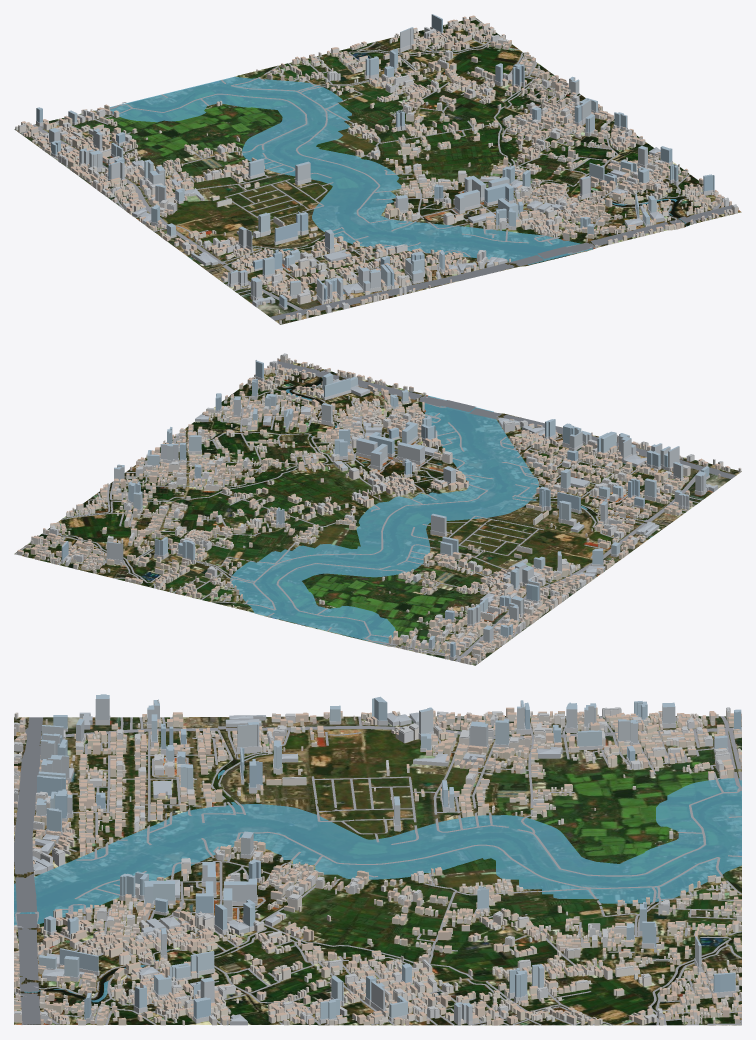
3 renders of one model, top to bottom at view 1: azimuth 30°, elevation 25°; view 2: azimuth 150°, elevation 25°; view 3: azimuth 270°, elevation 25°, orthographic. The views are drawn at different scales.
Visible parts, largest first — view 1: TERRAIN, BLDG_SHOPHOUSE, WATER, BLDG_MODERN_TOWER, BLDG_TUBE_HOUSE, ROAD_METRO, BLDG_APARTMENT, BLDG_INDUSTRIAL_PORT; view 2: TERRAIN, BLDG_SHOPHOUSE, WATER, BLDG_MODERN_TOWER, BLDG_TUBE_HOUSE, ROAD_METRO, BLDG_APARTMENT, BLDG_INDUSTRIAL_PORT; view 3: TERRAIN, BLDG_SHOPHOUSE, WATER, BLDG_MODERN_TOWER, ROAD_METRO, BLDG_TUBE_HOUSE, BLDG_APARTMENT, BLDG_INDUSTRIAL_PORT.
Part boxes in pixels (x1=…): TERRAIN: x1=14, y1=18, x2=741, y2=324; BLDG_SHOPHOUSE: x1=18, y1=15, x2=731, y2=320; WATER: x1=109, y1=76, x2=689, y2=264; BLDG_MODERN_TOWER: x1=36, y1=14, x2=714, y2=309; BLDG_TUBE_HOUSE: x1=15, y1=21, x2=738, y2=324; ROAD_METRO: x1=21, y1=18, x2=732, y2=320; BLDG_APARTMENT: x1=18, y1=27, x2=737, y2=320; BLDG_INDUSTRIAL_PORT: x1=131, y1=147, x2=664, y2=307; TERRAIN: x1=14, y1=359, x2=741, y2=665; BLDG_SHOPHOUSE: x1=17, y1=359, x2=730, y2=664; WATER: x1=230, y1=373, x2=587, y2=644; BLDG_MODERN_TOWER: x1=61, y1=360, x2=709, y2=660; BLDG_TUBE_HOUSE: x1=26, y1=358, x2=741, y2=664; ROAD_METRO: x1=15, y1=361, x2=735, y2=661; BLDG_APARTMENT: x1=49, y1=353, x2=723, y2=662; BLDG_INDUSTRIAL_PORT: x1=195, y1=379, x2=717, y2=605; TERRAIN: x1=14, y1=716, x2=741, y2=1025; BLDG_SHOPHOUSE: x1=14, y1=707, x2=741, y2=1025; WATER: x1=14, y1=770, x2=741, y2=1002; BLDG_MODERN_TOWER: x1=35, y1=694, x2=741, y2=1025; ROAD_METRO: x1=14, y1=716, x2=741, y2=1025; BLDG_TUBE_HOUSE: x1=14, y1=711, x2=741, y2=1025; BLDG_APARTMENT: x1=14, y1=707, x2=739, y2=1025; BLDG_INDUSTRIAL_PORT: x1=32, y1=712, x2=562, y2=1025.
Bounding box in the file's own units: 2000 × 91.7 × 2000.
8 materials, 1 textured.
